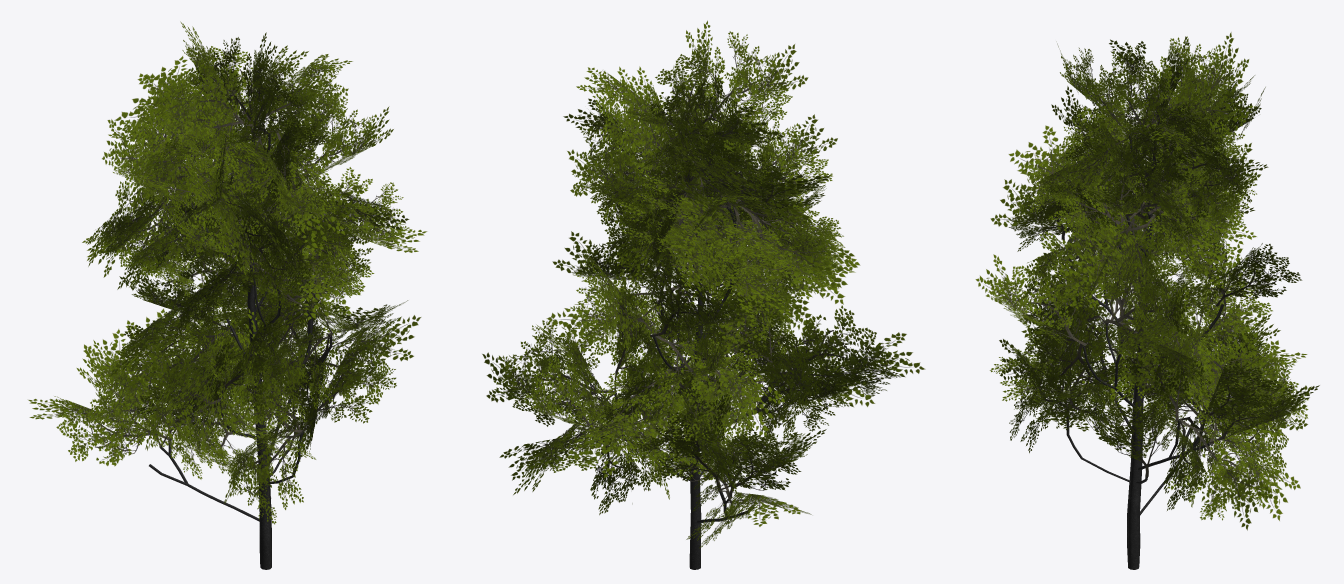
File: tall_shrub.glb
The picture shows the model from 3 angles, left to right: view 1: azimuth 30°, elevation 25°; view 2: azimuth 150°, elevation 25°; view 3: azimuth 270°, elevation 25°; orthographic projection.
Parts seen in each view (by area): view 1: Object_86; view 2: Object_86; view 3: Object_86.
Boxes of the visible parts, x1,y1,x2,y2 form: Object_86: (28,21,427,569); Object_86: (482,20,925,569); Object_86: (975,32,1319,569).
Bounding box in the file's own units: 10.87 × 14.81 × 9.15.
2 materials, 2 textured.
